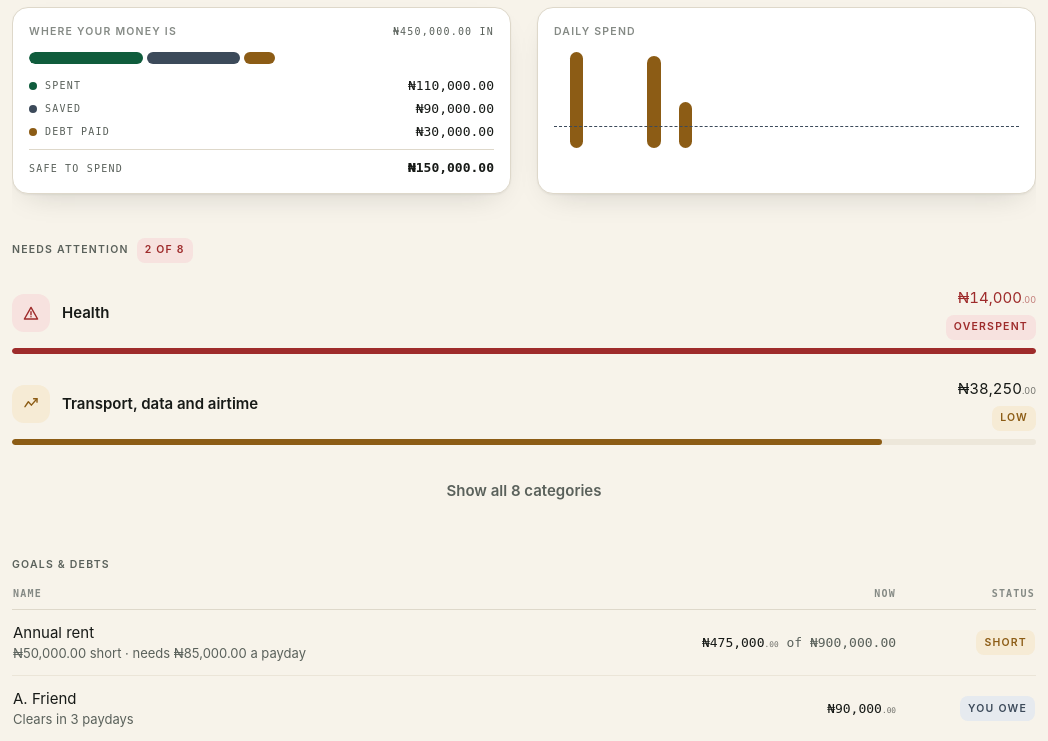
Test: the ranked section at 360 › expands to everything, and the heading follows the list
(page scrolled)
Click the button "Show all 8 categories" at (524, 491), box [12,469,1036,513]
(page scrolled)
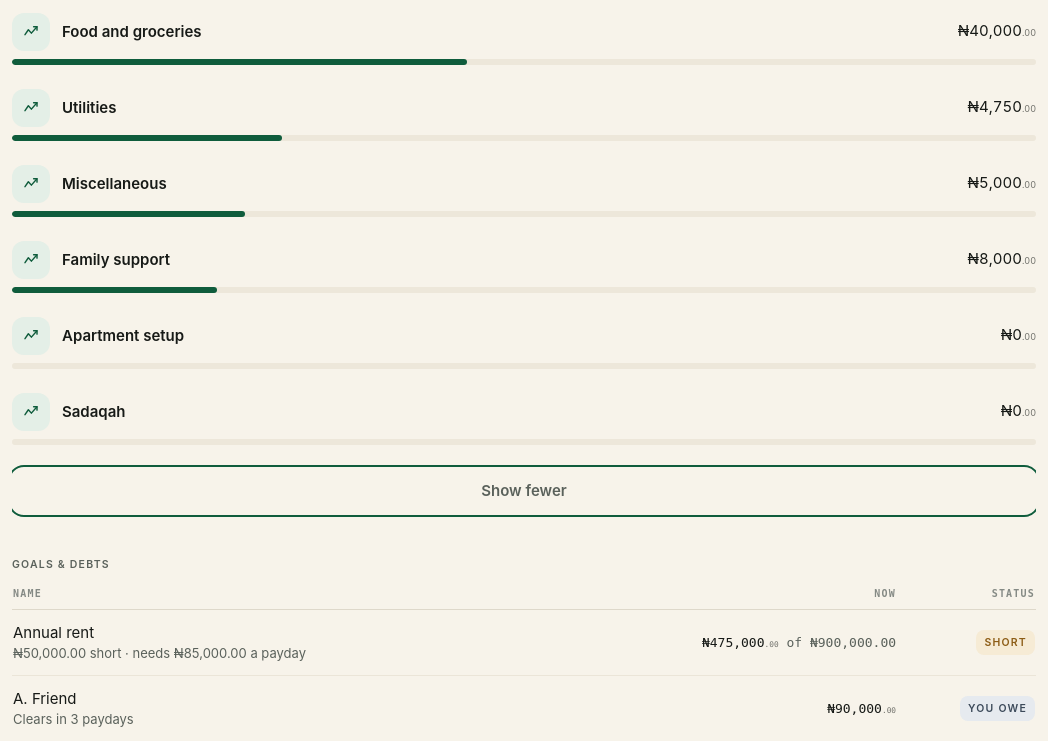
Expected: the heading "Needs attention" is gone
Expected: the text "Sadaqah" is shown, [62,402,126,421]
Expected: the text "2 of 8" is gone
